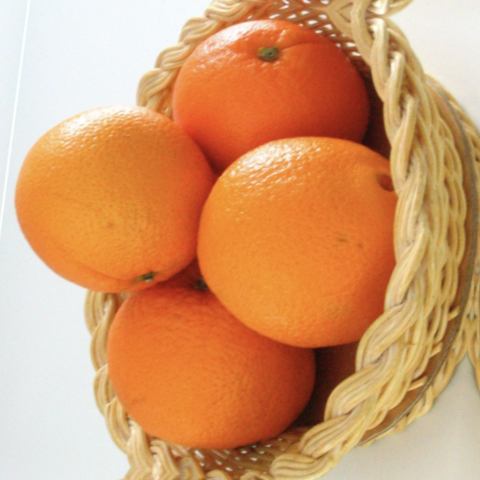orange: (163, 105, 442, 368), (87, 255, 322, 480), (0, 91, 208, 315), (153, 0, 353, 196)
